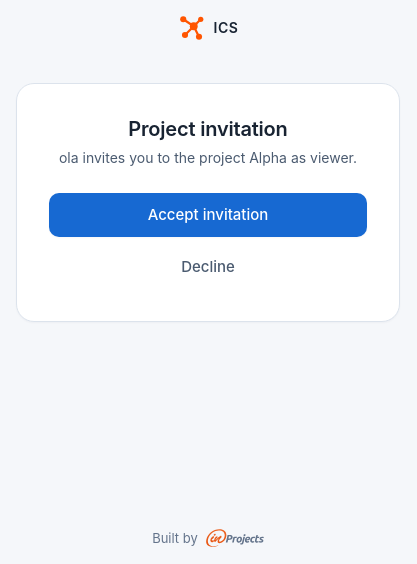
Test: AcceptInvite › from the inbox, without the e-mail token › declines
Click the button "Decline".
click(208, 267)  # box [49,245,367,289]
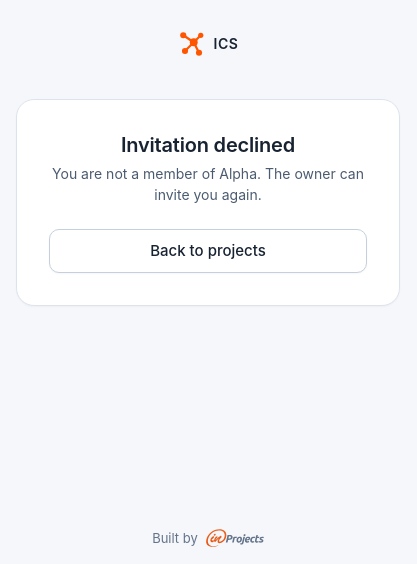
expect the heading "Invitation declined" is shown: met, box [121,133,295,157]
